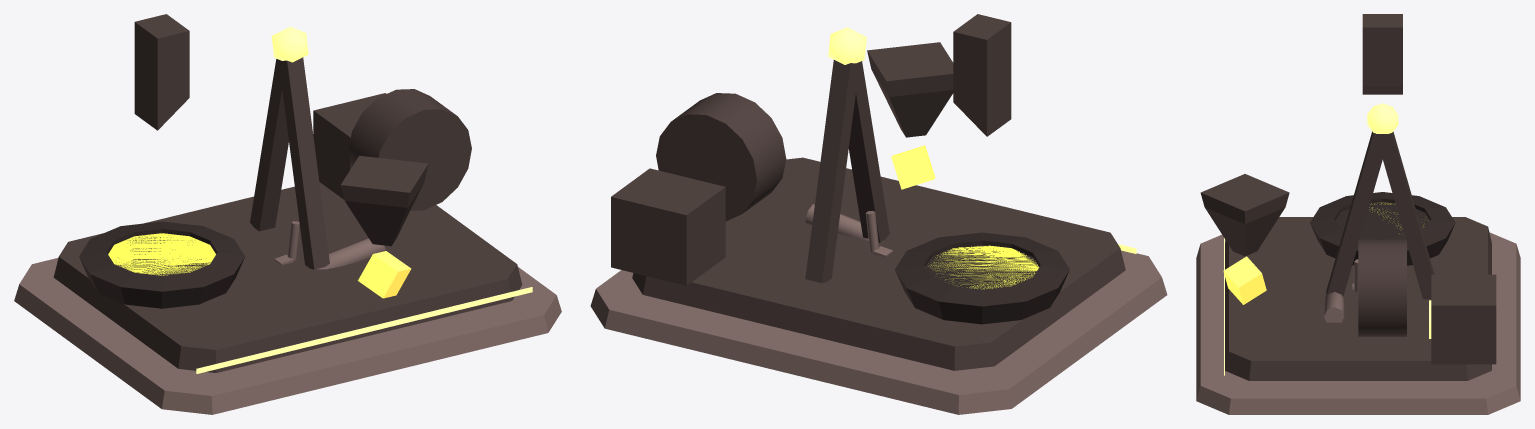
Rendered from MagmaPumpDropper_Roblox.fbx.
The picture shows the model from 3 angles, left to right: view 1: azimuth 30°, elevation 25°; view 2: azimuth 150°, elevation 25°; view 3: azimuth 270°, elevation 25°; orthographic projection. The views are drawn at different scales.
Parts seen in each view (by area): view 1: DarkPlate, SteelPlate, Basalt, CoreGlow, AccentNeon, Ore; view 2: DarkPlate, SteelPlate, Basalt, CoreGlow, Ore, AccentNeon; view 3: DarkPlate, SteelPlate, Basalt, Ore, AccentNeon.
Boxes of the visible parts, x1,y1,x2,y2 form: DarkPlate: [53, 14, 522, 372]; SteelPlate: [14, 221, 561, 414]; Basalt: [79, 221, 245, 308]; CoreGlow: [108, 233, 215, 275]; AccentNeon: [196, 26, 532, 373]; Ore: [358, 251, 411, 298]; DarkPlate: [611, 14, 1125, 370]; SteelPlate: [590, 204, 1167, 414]; Basalt: [895, 232, 1069, 324]; CoreGlow: [928, 245, 1039, 289]; Ore: [891, 145, 935, 189]; AccentNeon: [828, 27, 1136, 253]; DarkPlate: [1200, 14, 1496, 380]; SteelPlate: [1196, 232, 1520, 414]; Basalt: [1310, 192, 1455, 265]; Ore: [1223, 256, 1266, 304]; AccentNeon: [1224, 103, 1431, 375].
Bounding box in the file's own units: 1000 × 866 × 800.
